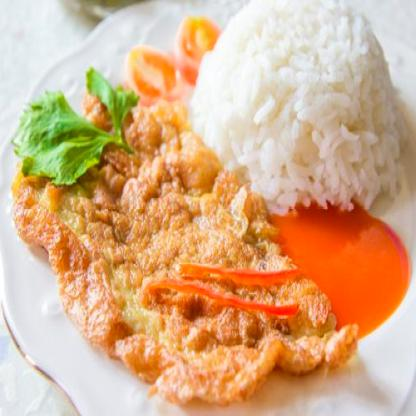Omelette: (38, 10, 352, 390)
